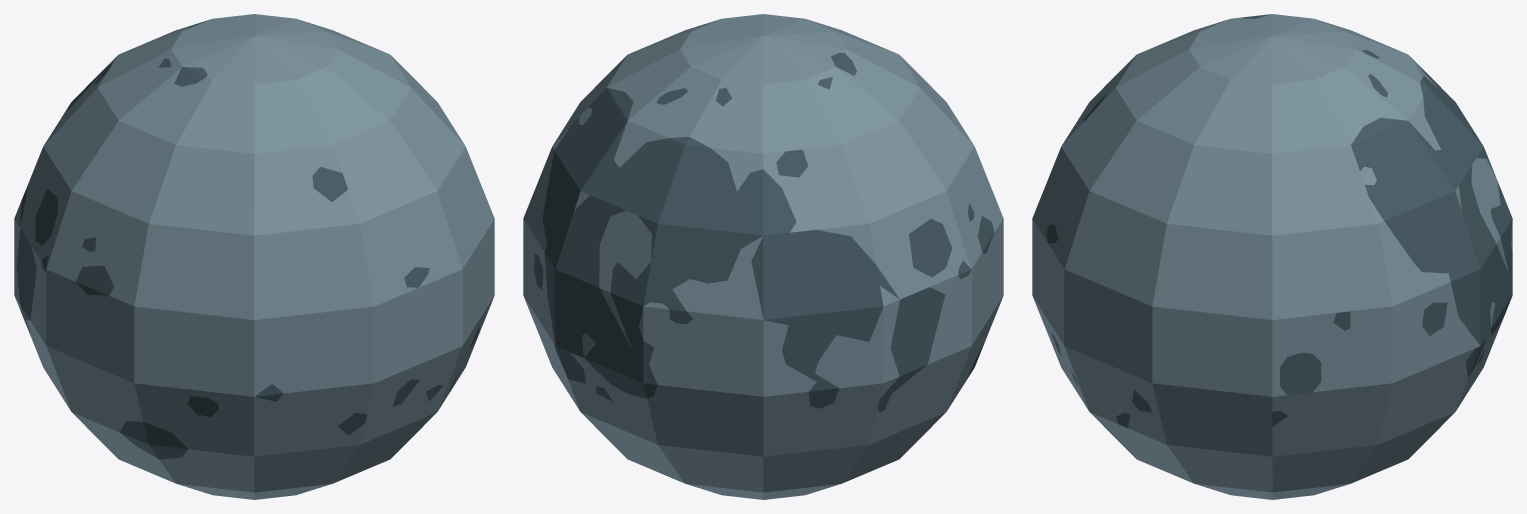
File: moon.fbx
3 views of the same model, side by side, from view 1: azimuth 30°, elevation 25°; view 2: azimuth 150°, elevation 25°; view 3: azimuth 270°, elevation 25° (orthographic).
Parts seen in each view (by area): view 1: mesh_646701568; view 2: mesh_646701568; view 3: mesh_646701568.
Boxes of the visible parts, x1,y1,x2,y2 form: mesh_646701568: (14,14,494,499); mesh_646701568: (523,14,1003,499); mesh_646701568: (1032,14,1512,499).
Size of the model in its own units: 137 by 139 by 137.
